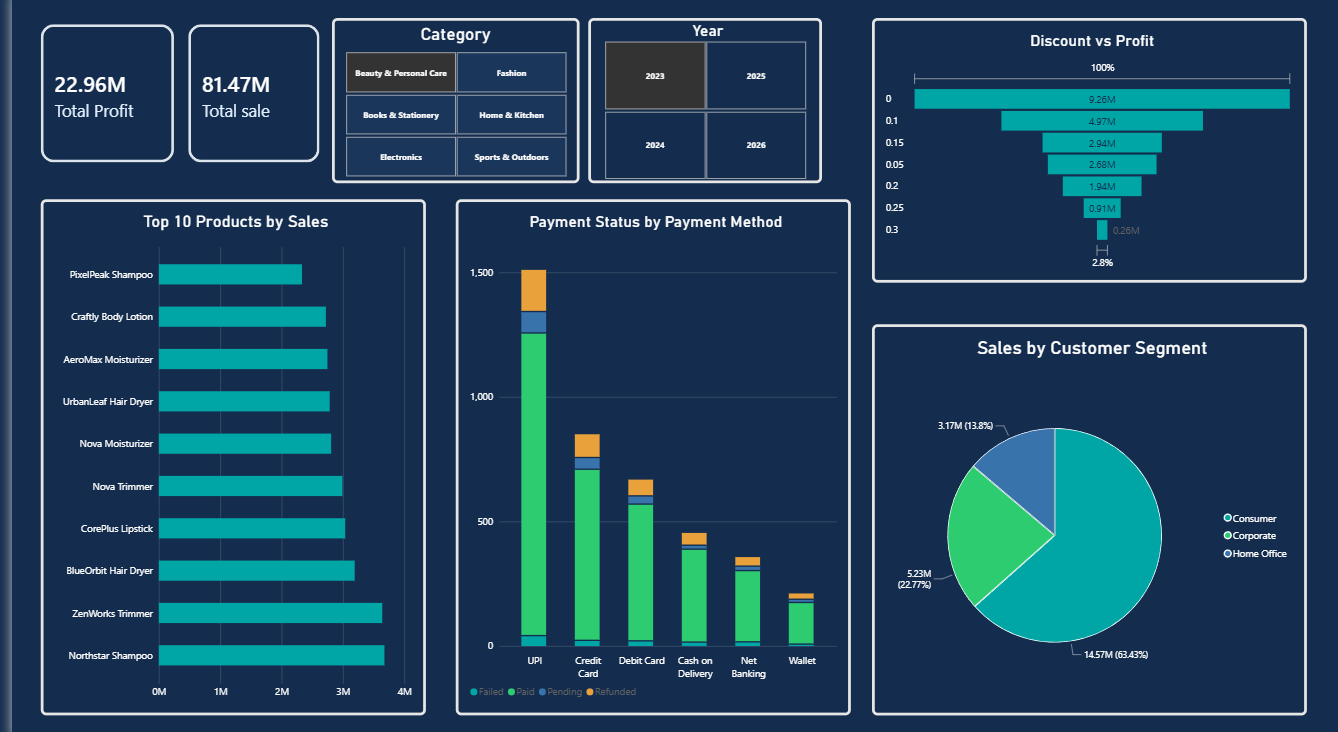

This screenshot's page, from the dashboard's own definition file:
{"tool":"powerbi","page":{"name":"Sales and  Profit Analysis","canvas":[1920,1080],"ordinal":1},"visuals":[{"type":"barChart","title":"\tTop 10 Products by Sales","fields":{"Category":["products.product_name"],"Y":["Sum(orders.sales_amount)"]},"box":[41.6,298.6,557.4,747.4],"z":0},{"type":"funnel","title":"Discount vs Profit","fields":{"Category":["orders.discount_pct"],"Y":["Sum(orders.profit_amount)"]},"box":[1245,36.2,629.8,382.8],"z":1000},{"type":"pieChart","title":"\tSales by Customer Segment","fields":{"Category":["customers.customer_segment"],"Y":["Sum(orders.profit_amount)"]},"box":[1245.3,479.6,629.8,566],"z":2000},{"type":"columnChart","title":"Payment Status by Payment Method","fields":{"Category":["payments.payment_method"],"Series":["payments.payment_status"],"Y":["CountNonNull(payments.payment_id)"]},"box":[642.4,298.6,571.9,747.4],"z":3000},{"type":"slicer","title":"Year","fields":{"Values":["orders.order_date.Variation.Date Hierarchy.Year"]},"box":[834.3,36.2,338.4,238.9],"z":4000},{"type":"cardVisual","fields":{"Data":["orders.Total Profit"]},"box":[41.6,45.2,193.6,200.9],"z":5000},{"type":"cardVisual","fields":{"Data":["customers.Total sale"]},"box":[255.2,45.2,190,200.9],"z":6000},{"type":"slicer","title":"Category","fields":{"Values":["products.category"]},"box":[463.3,45.2,358.1,222.3],"z":7000},{"type":"shape","box":[463.3,36.2,358.3,238.9],"z":8000}]}

Visuals, with their boxes in screenshot pixels (x1, y1, x2, y2), scaled from the page's 1920x1080 canvas onto the 1338x732 screenshot:
"	Top 10 Products by Sales" barChart: box(29, 202, 417, 709)
"Discount vs Profit" funnel: box(868, 25, 1307, 284)
"	Sales by Customer Segment" pieChart: box(868, 325, 1307, 709)
"Payment Status by Payment Method" columnChart: box(448, 202, 846, 709)
"Year" slicer: box(581, 25, 817, 186)
cardVisual - orders.Total Profit: box(29, 31, 164, 167)
cardVisual - customers.Total sale: box(178, 31, 310, 167)
"Category" slicer: box(323, 31, 572, 181)
shape: box(323, 25, 573, 186)
